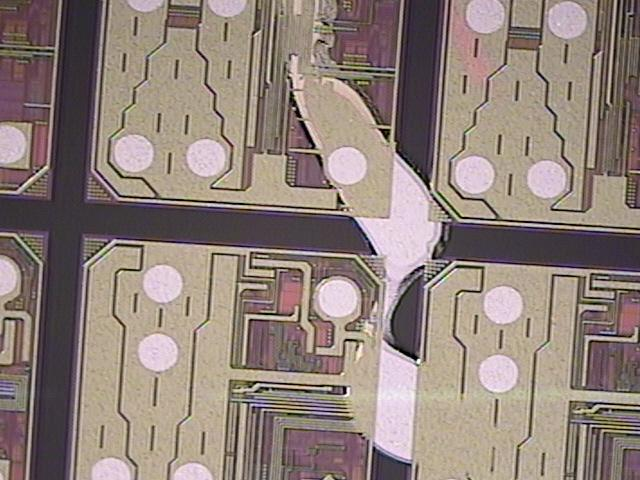COATING BAD: (275, 1, 453, 466)
